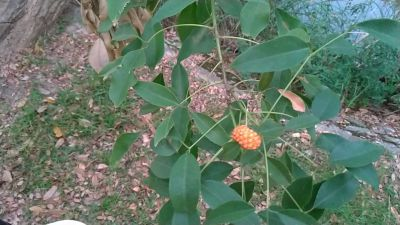eggs: (228, 121, 266, 153)
